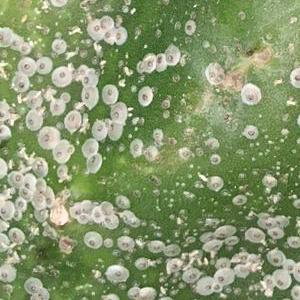Femea: (72, 204, 113, 225), (264, 218, 282, 235), (35, 192, 51, 209), (243, 87, 258, 103), (54, 145, 68, 159), (88, 156, 102, 170), (165, 50, 179, 64), (82, 88, 93, 105), (39, 129, 52, 143), (91, 122, 104, 136), (82, 71, 95, 85), (0, 267, 13, 281), (215, 270, 228, 284), (102, 87, 114, 102), (154, 53, 166, 68), (68, 113, 78, 130), (107, 267, 124, 277), (13, 75, 25, 89), (10, 229, 24, 241), (113, 107, 124, 122), (56, 67, 66, 83), (274, 274, 286, 287), (8, 173, 22, 184), (26, 93, 37, 107), (118, 239, 132, 250), (200, 279, 211, 293), (0, 28, 10, 43), (86, 233, 96, 248), (108, 123, 120, 135), (0, 201, 9, 217), (27, 279, 38, 292), (27, 113, 37, 127), (291, 68, 299, 85), (145, 55, 154, 70), (283, 259, 292, 274), (268, 253, 279, 265), (139, 89, 149, 102), (19, 61, 32, 71), (104, 29, 114, 42), (185, 271, 198, 281), (92, 22, 101, 36), (250, 230, 264, 239), (23, 177, 32, 190), (35, 60, 46, 70), (245, 125, 255, 136), (50, 100, 60, 111), (208, 178, 218, 189), (11, 207, 21, 218), (132, 140, 139, 155), (15, 197, 23, 210), (136, 258, 146, 268), (264, 275, 274, 285), (234, 195, 246, 203), (10, 37, 19, 47), (217, 259, 226, 269), (293, 284, 299, 299), (20, 188, 28, 198), (184, 21, 191, 32), (60, 93, 69, 101), (116, 30, 123, 40), (266, 176, 273, 186), (138, 60, 144, 71), (20, 43, 28, 51), (210, 154, 218, 162), (65, 145, 74, 152), (56, 167, 65, 174), (210, 284, 220, 290)
Macho: (67, 26, 81, 35), (197, 171, 207, 183), (62, 54, 77, 62), (19, 171, 32, 177), (74, 105, 85, 111), (16, 91, 21, 103), (262, 277, 272, 283), (38, 106, 45, 114), (141, 54, 150, 60), (38, 89, 43, 97)
